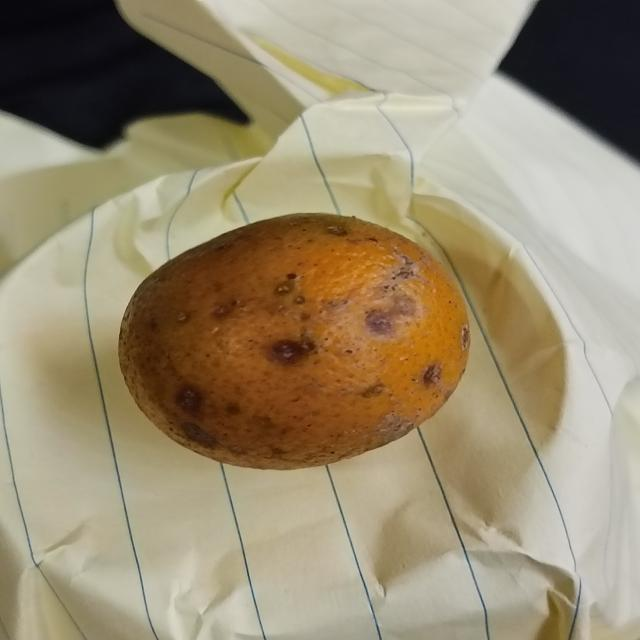black spot: (117, 212, 474, 465)
